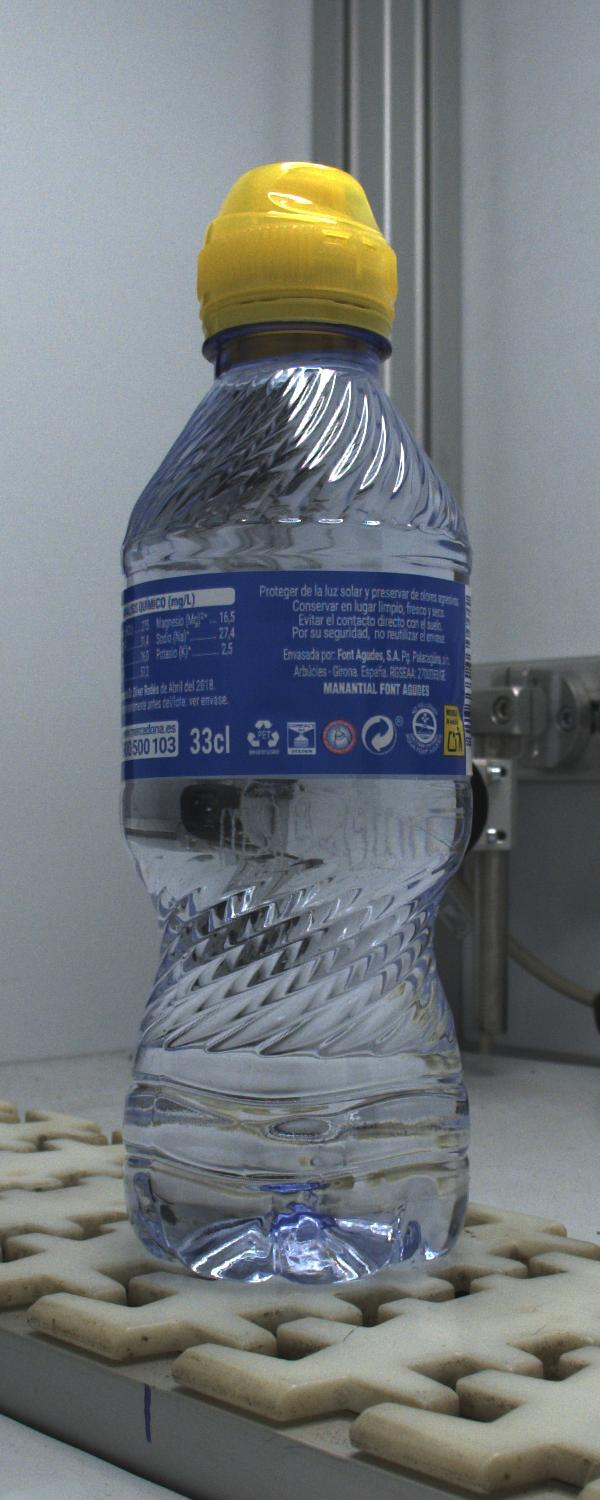bottle: (123, 163, 470, 1281)
cap: (197, 162, 396, 340)
